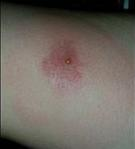Spider: (34, 37, 88, 96)
